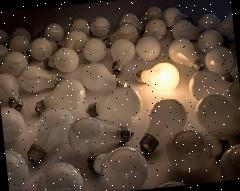lightbulb: (0, 0, 240, 191), (21, 104, 77, 165), (135, 95, 190, 154), (85, 143, 149, 191), (164, 126, 224, 176), (30, 159, 85, 191), (134, 61, 180, 95), (166, 36, 206, 75)
